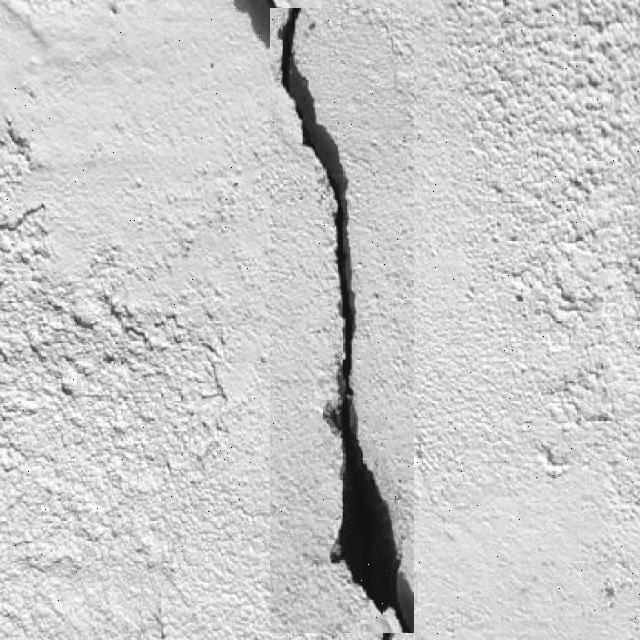crack: (247, 1, 438, 640)
